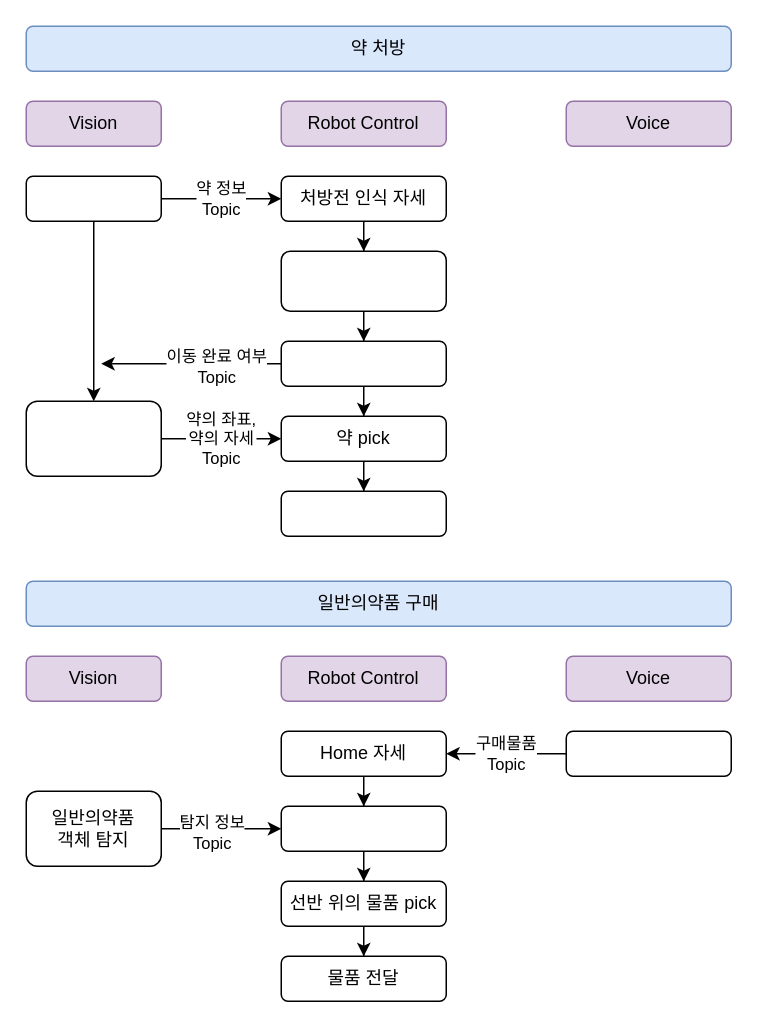
Image size: 758x1028. Some labels were removed from this diagram. The centre of each missing label's shape, as x and y in pixels:
"구매할 물품 요청" belongs at pixel 648 753.
"서랍 열기 (4개 중 하나)" belongs at pixel 363 280.
"선반 바라보는 자세" belongs at pixel 363 828.
"약 봉투에 담기" belongs at pixel 363 513.
"약 인식 및 좌표와 자세 추정" belongs at pixel 93 438.
"연 서랍 위로 이동" belongs at pixel 363 363.
"처방전 인식" belongs at pixel 93 198.
